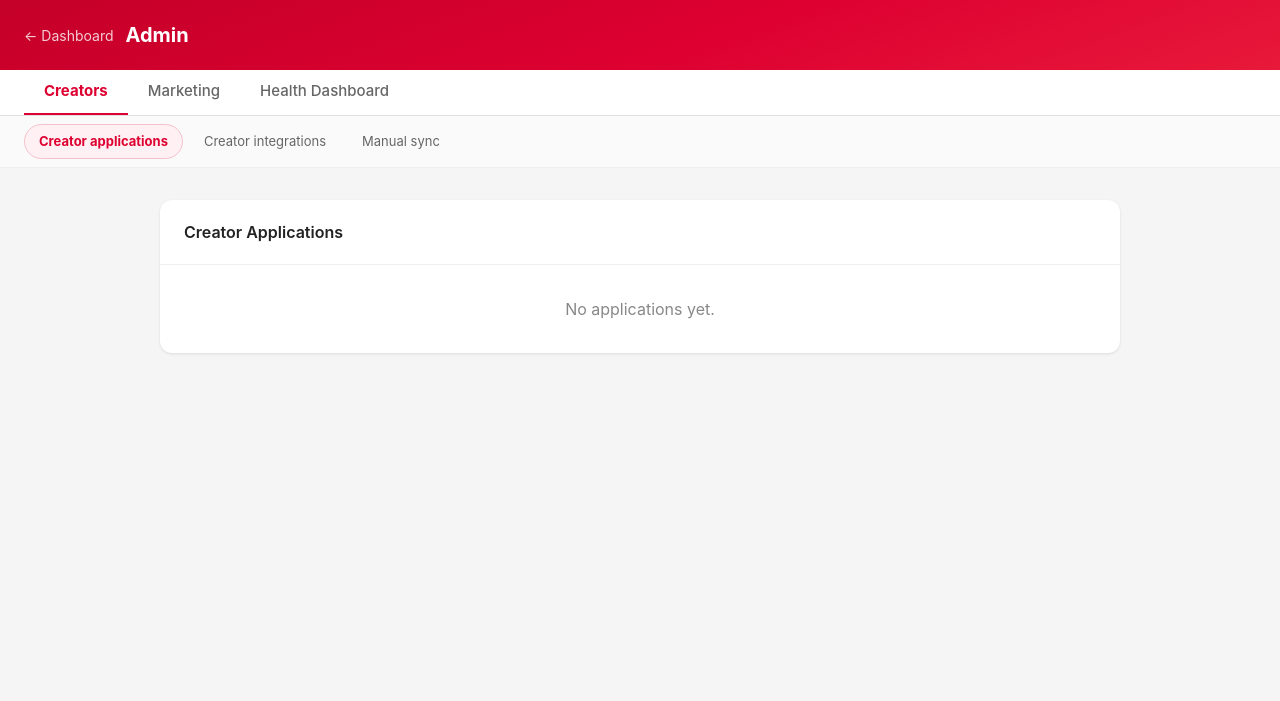
Scenario: admin Sources tab — poll health › leads with the last poll that found a new post
What coordinates should you click on to do the following:
click the button "Creator integrations"
I would click on:
 (265, 141)
Its box is x1=189 y1=124 x2=341 y2=159.
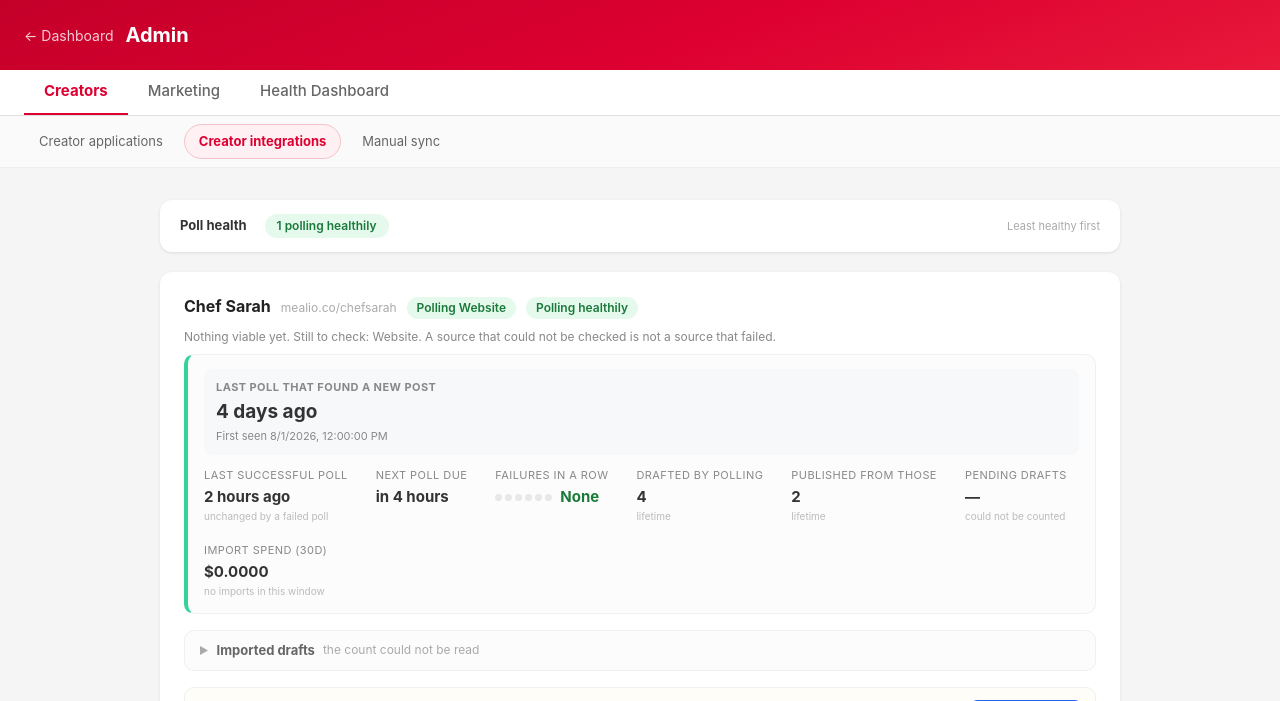
Expected: the element with test id "poll-health-summary" is shown, x1=160 y1=200 x2=1120 y2=252
Expected: the element with test id "poll-last-new-c1" shows "Last poll that found a new post", x1=216 y1=380 x2=436 y2=394
Expected: the element with test id "poll-last-new-c1" shows "4 days ago", x1=216 y1=400 x2=317 y2=423
